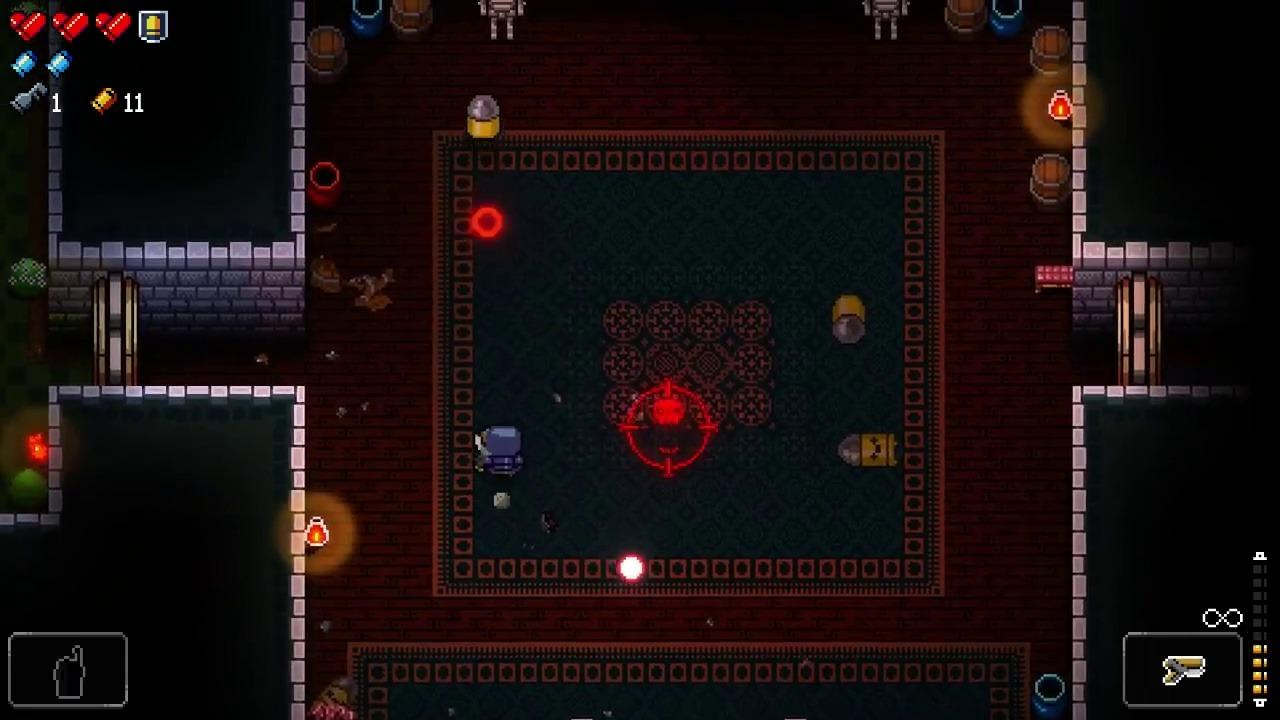bullet: (619, 554, 645, 583)
dead_bullet_kin: (836, 433, 901, 468), (467, 94, 501, 140), (833, 295, 865, 343)
enemy_spawn: (618, 377, 717, 479)
locked_door: (1117, 273, 1162, 386), (93, 273, 136, 385)
player: (483, 424, 522, 476)
